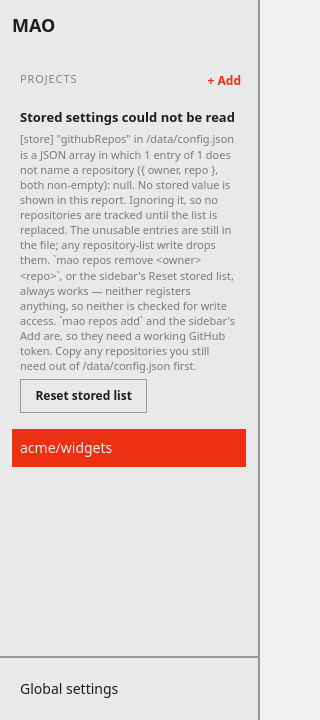
Scenario: Sidebar queue recovery › says which no-write case it was, because they ask different things of the operator
Click the button "Reset stored list".
click(84, 396)  # box [20,380,147,414]
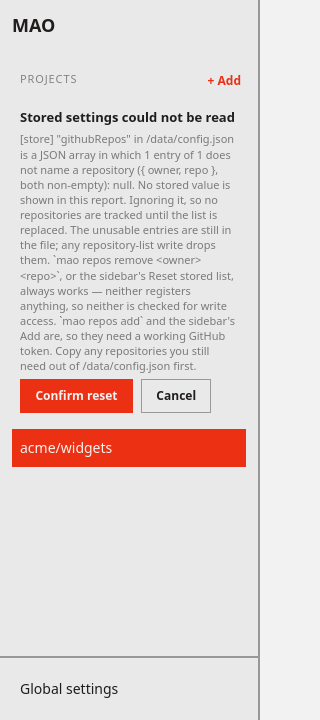
Click the button "Confirm reset".
click(76, 396)  # box [20,380,133,414]
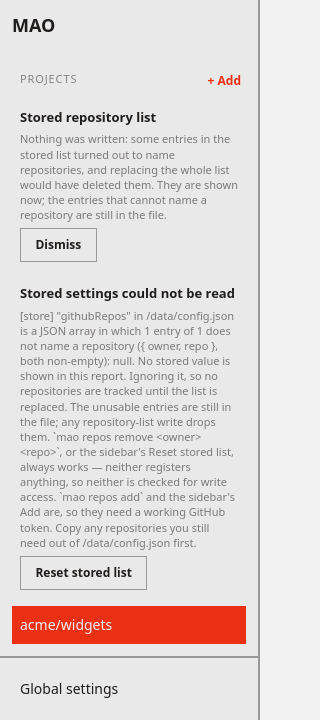
Check: the text "would have deleted them" is shown, box [20,132,238,222]
